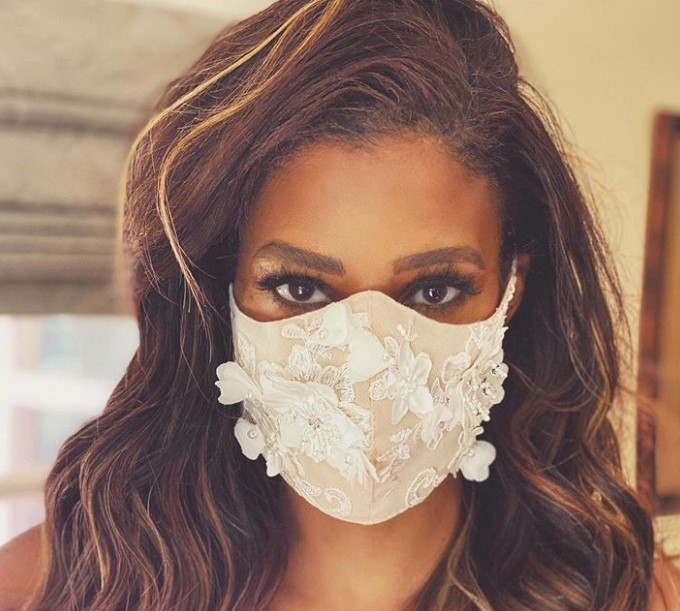face_with_mask: (197, 30, 545, 530)
